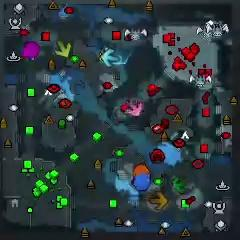p1: (134, 172, 151, 192)
p3: (21, 41, 42, 58)
p5: (133, 163, 151, 176)
x1: (126, 100, 143, 117)
x2: (55, 40, 72, 57)
x3: (101, 49, 120, 67)
x4: (173, 176, 189, 193)
x5: (150, 191, 168, 209)
